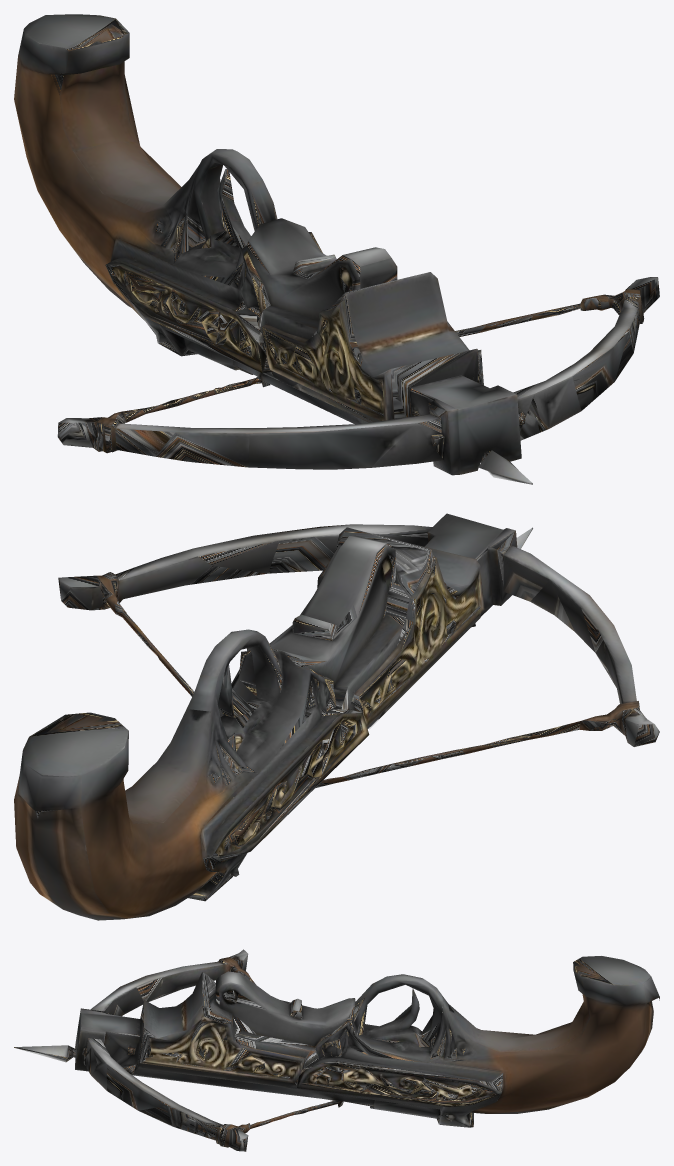
File: 1128_crossbow.glb
3 renders of one model, top to bottom at view 1: azimuth 30°, elevation 25°; view 2: azimuth 150°, elevation 25°; view 3: azimuth 270°, elevation 25°, orthographic. The views are drawn at different scales.
Parts seen in each view (by area): view 1: Model; view 2: Model; view 3: Model.
Boxes of the visible parts, left/top/right/bottom form: Model: left=14, top=14, right=659, bottom=484; Model: left=14, top=513, right=659, bottom=920; Model: left=14, top=949, right=659, bottom=1151.
Bounding box in the file's own units: 0.6996 × 0.2692 × 1.
Materials: 1 (1 with a texture image).
